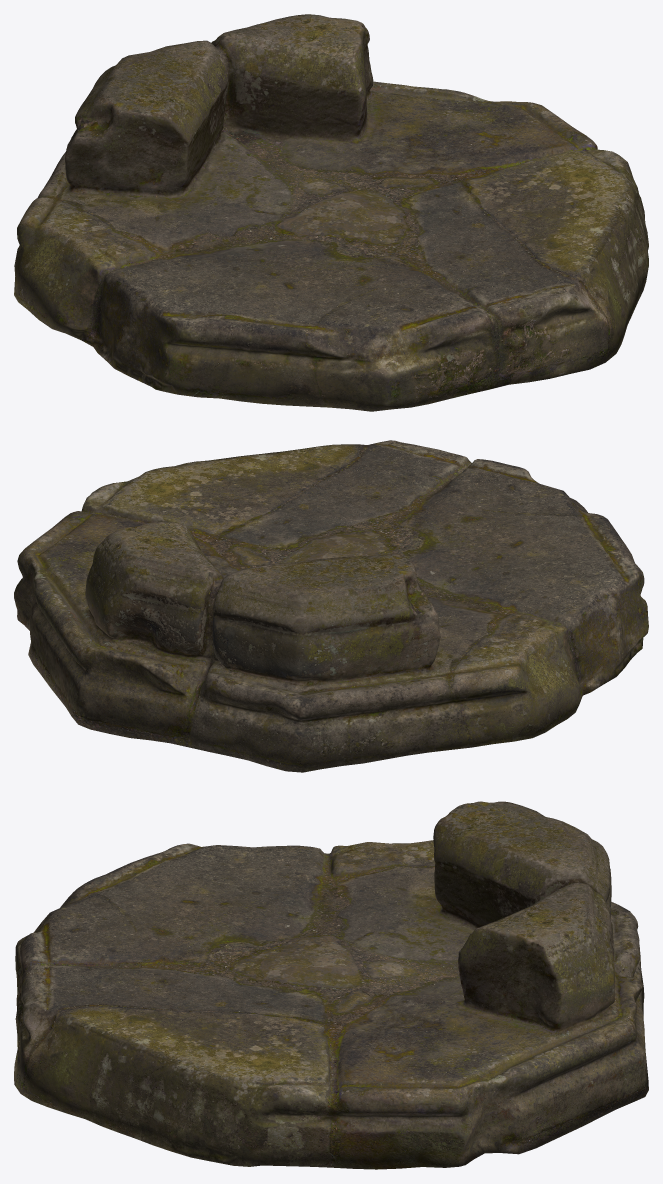
Rendered from Aset_Ston_Castle.fbx.
3 renders of one model, top to bottom at view 1: azimuth 30°, elevation 25°; view 2: azimuth 150°, elevation 25°; view 3: azimuth 270°, elevation 25°, orthographic. The views are drawn at different scales.
Visible parts, largest first — view 1: Aset_stone_castle_S_scnv2_LOD0; view 2: Aset_stone_castle_S_scnv2_LOD0; view 3: Aset_stone_castle_S_scnv2_LOD0.
Boxes of the visible parts, x1,y1,x2,y2 form: Aset_stone_castle_S_scnv2_LOD0: (14, 14, 648, 411); Aset_stone_castle_S_scnv2_LOD0: (14, 440, 648, 772); Aset_stone_castle_S_scnv2_LOD0: (14, 801, 648, 1169).
Bounding box in the file's own units: 131 × 37.89 × 130.
